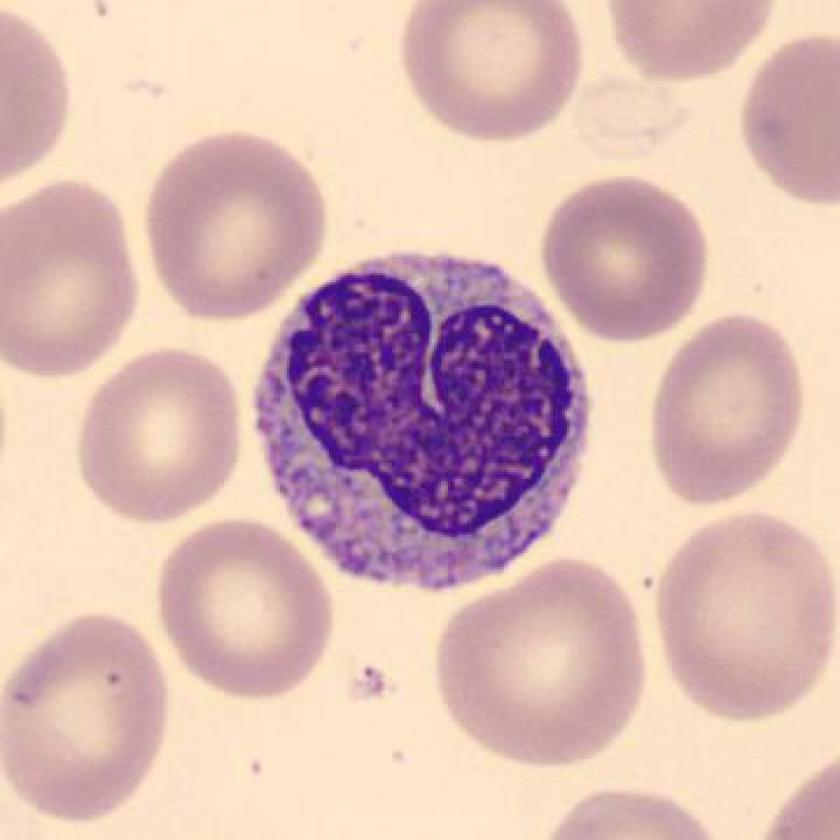monocyte: (244, 230, 608, 607)
